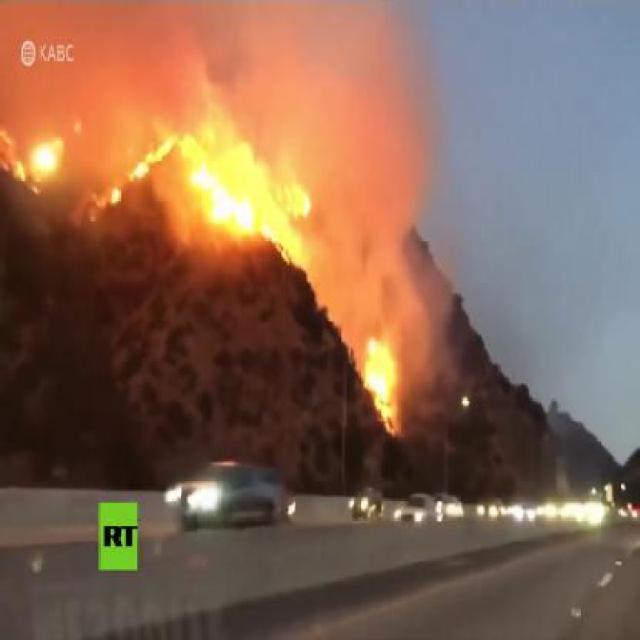Fire: (182, 128, 310, 270), (0, 121, 65, 192), (362, 336, 400, 436), (129, 131, 177, 184), (109, 186, 122, 203)
